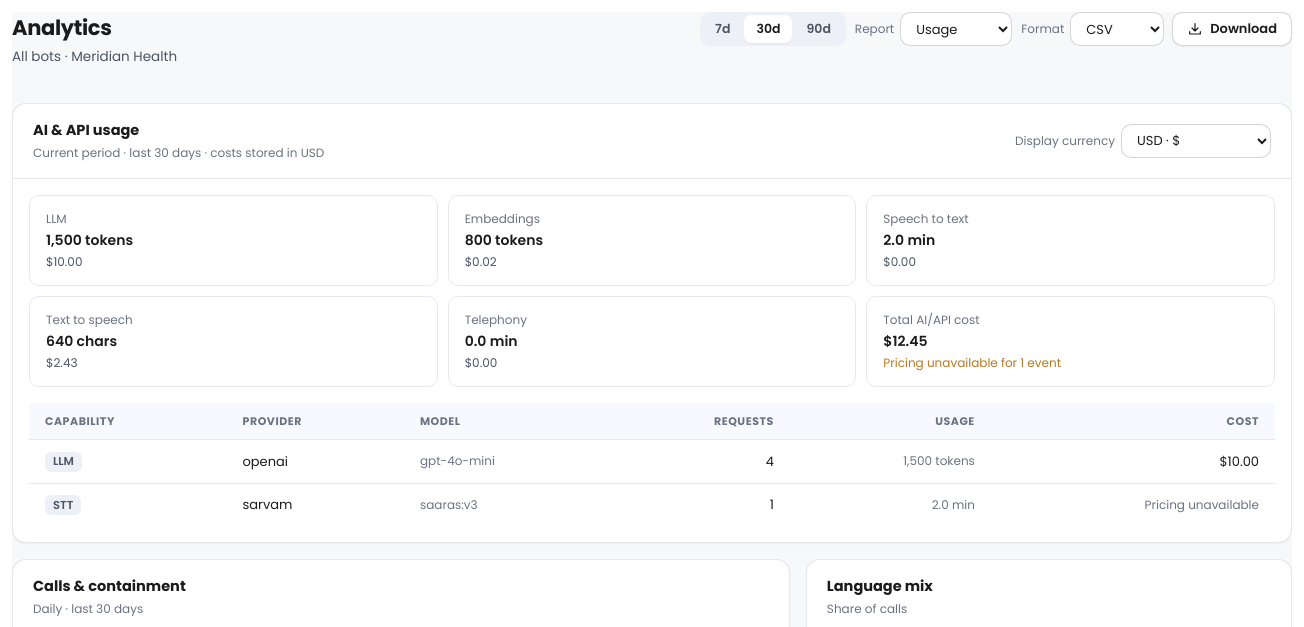
Test: Tenant Analytics usage & cost › switches to dual USD/INR display without changing the base cost
Expected: the text "AI & API usage" is shown, x1=33 y1=120 x2=139 y2=140
Select "INR · ₹" in the dropdown labelled "Display currency". click: (1196, 141)
box: x1=1121 y1=124 x2=1271 y2=158
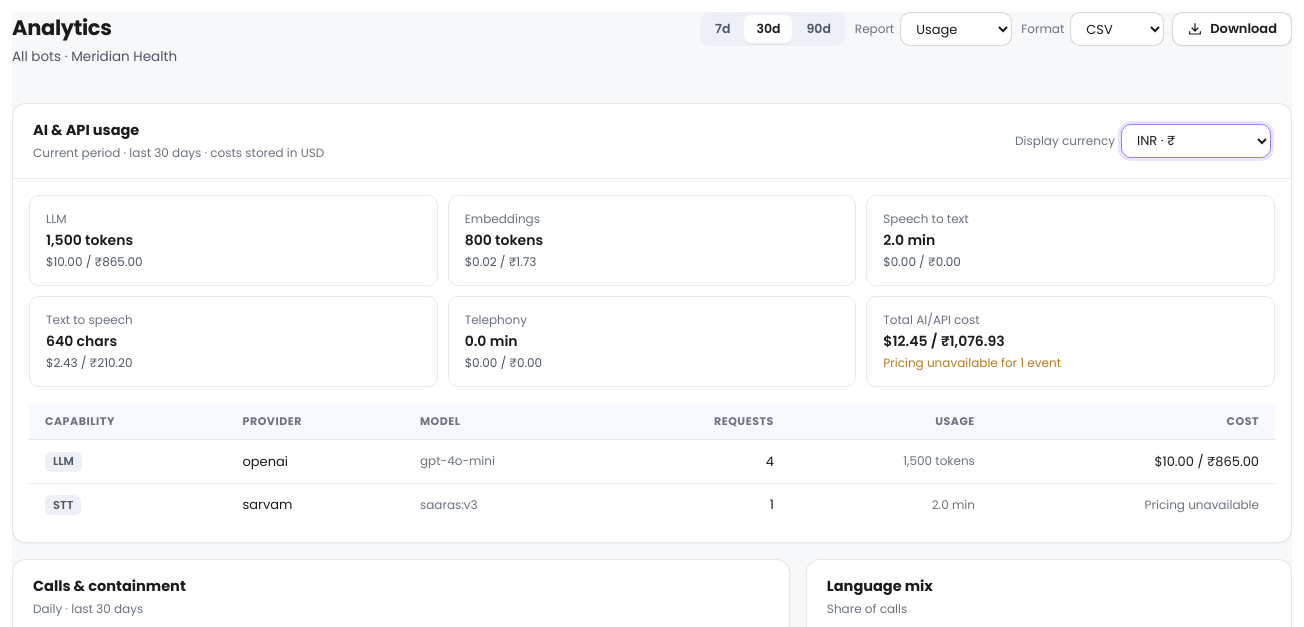
Expected: the text "$12.45 / ₹1,076.93" is shown, x1=883 y1=330 x2=1005 y2=350
